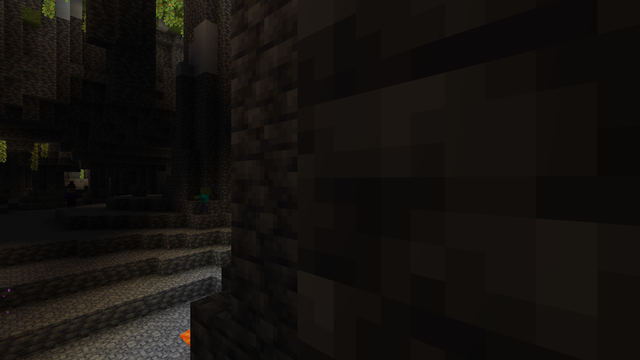sorcieres: (66, 186, 75, 207)
zombies: (199, 188, 210, 214)
